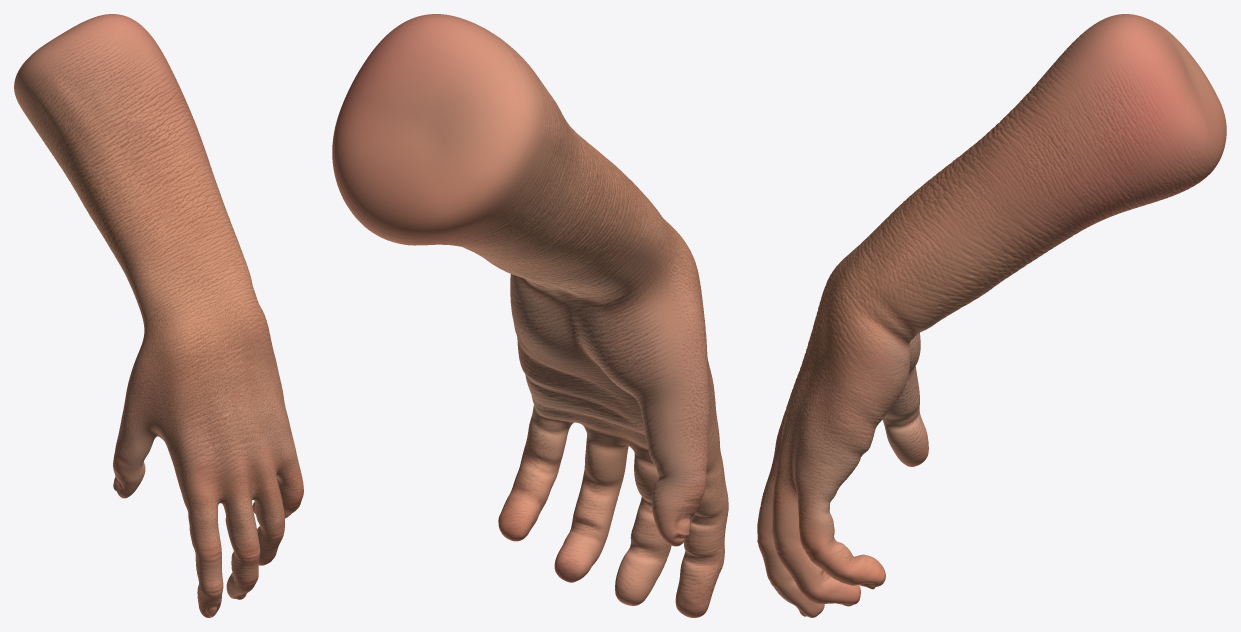
File: hand.fbx
3 renders of one model, left to right at view 1: azimuth 30°, elevation 25°; view 2: azimuth 150°, elevation 25°; view 3: azimuth 270°, elevation 25°, orthographic. The views are drawn at different scales.
Visible parts, largest first — view 1: Quad Sphere; view 2: Quad Sphere; view 3: Quad Sphere.
Part boxes in pixels (x1,y1,x2,y2): Quad Sphere: [14, 14, 303, 617]; Quad Sphere: [332, 14, 728, 617]; Quad Sphere: [757, 14, 1226, 617].
Bounding box in the file's own units: 330 × 1011 × 717.
